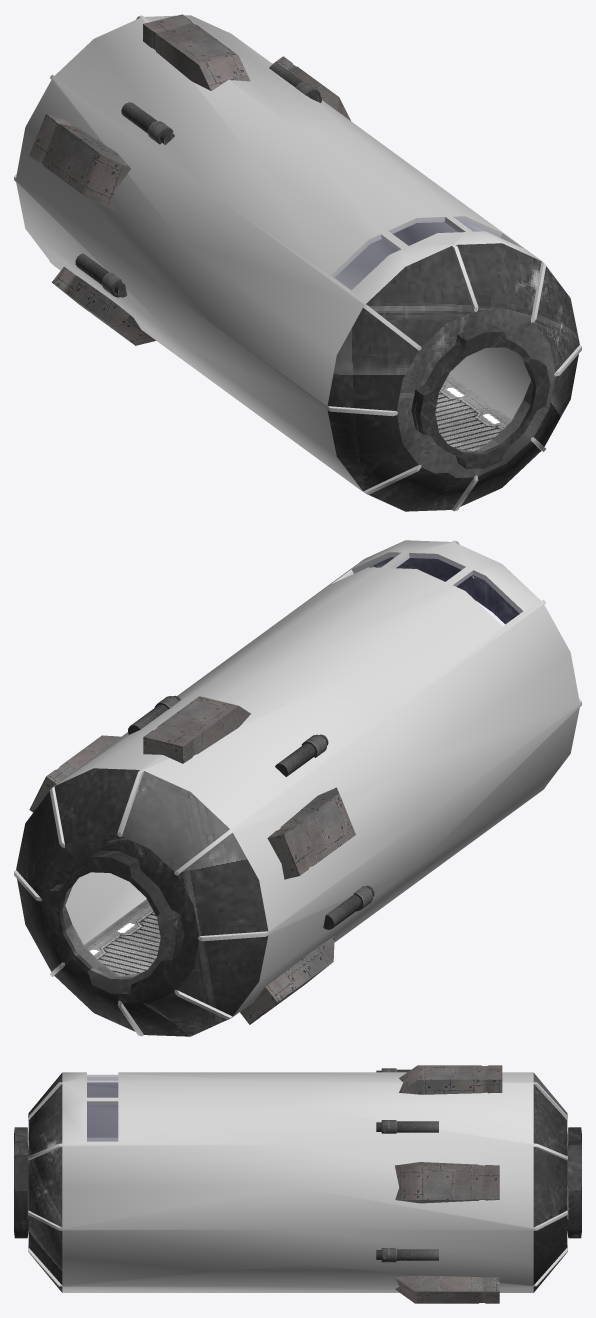
The model's file is station_module1.glb.
3 renders of one model, top to bottom at view 1: azimuth 30°, elevation 25°; view 2: azimuth 150°, elevation 25°; view 3: azimuth 270°, elevation 25°, orthographic. The views are drawn at different scales.
Visible parts, largest first — view 1: Station Module 1; view 2: Station Module 1; view 3: Station Module 1.
Part boxes in pixels (left/top/right/bottom): Station Module 1: left=14, top=14, right=581, bottom=511; Station Module 1: left=14, top=540, right=581, bottom=1036; Station Module 1: left=14, top=1065, right=581, bottom=1303.
Size of the model in its own units: 5.67 by 5.76 by 13.62.
5 materials, 4 textured.
